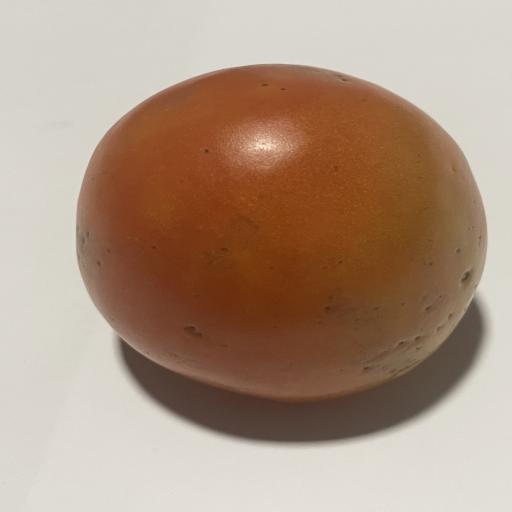unripe: (76, 65, 486, 401)
